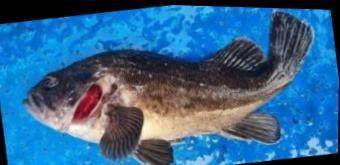fish: (22, 8, 315, 165)
